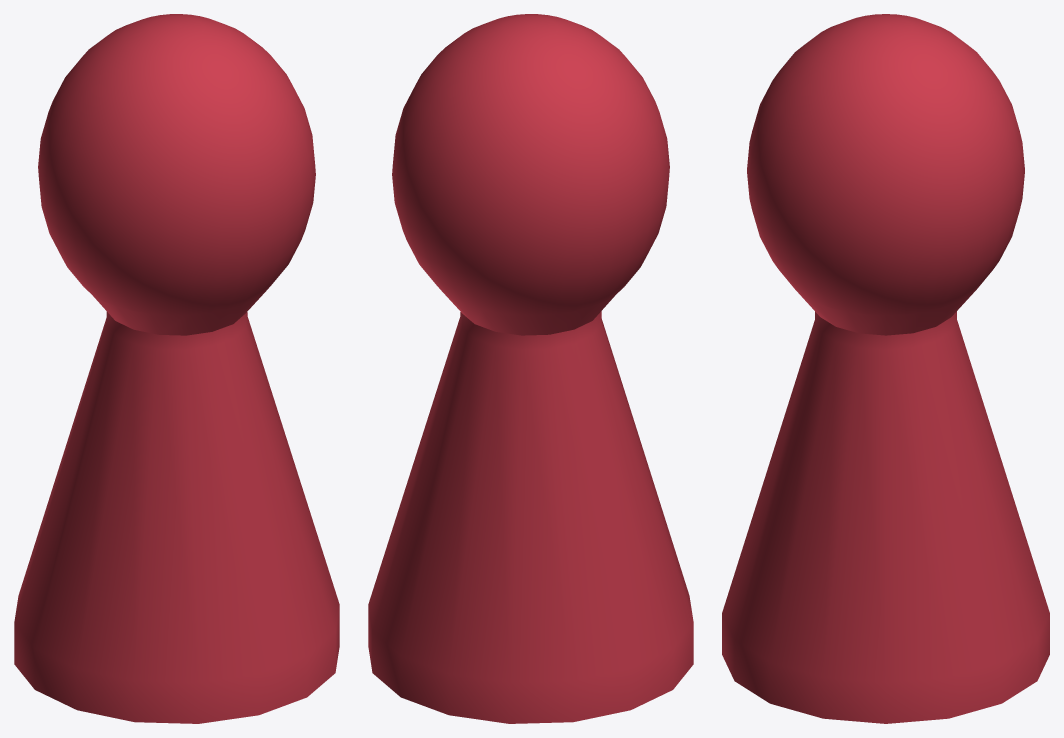
File: pawnLarge.glb
3 views of the same model, side by side, from view 1: azimuth 30°, elevation 25°; view 2: azimuth 150°, elevation 25°; view 3: azimuth 270°, elevation 25° (orthographic).
Visible parts, largest first — view 1: pawnLarge; view 2: pawnLarge; view 3: pawnLarge.
Part boxes in pixels (x1,y1,x2,y2): pawnLarge: (14, 14, 339, 723); pawnLarge: (368, 14, 693, 723); pawnLarge: (722, 14, 1049, 723).
Bounding box in the file's own units: 0.4621 × 0.9783 × 0.4621.
